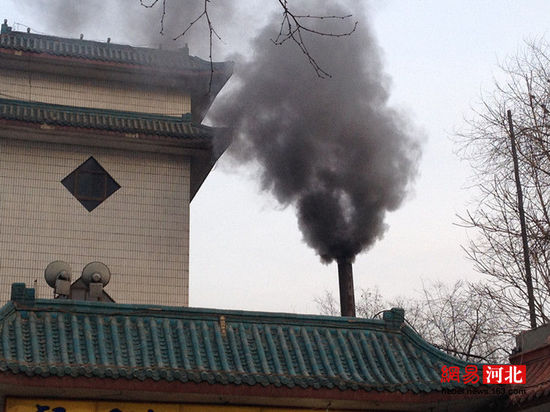dust: (225, 6, 421, 267)
